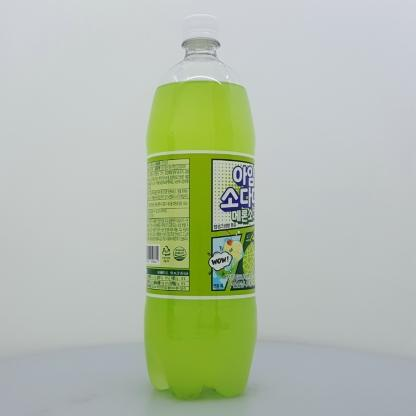-----------: (144, 14, 257, 399)
